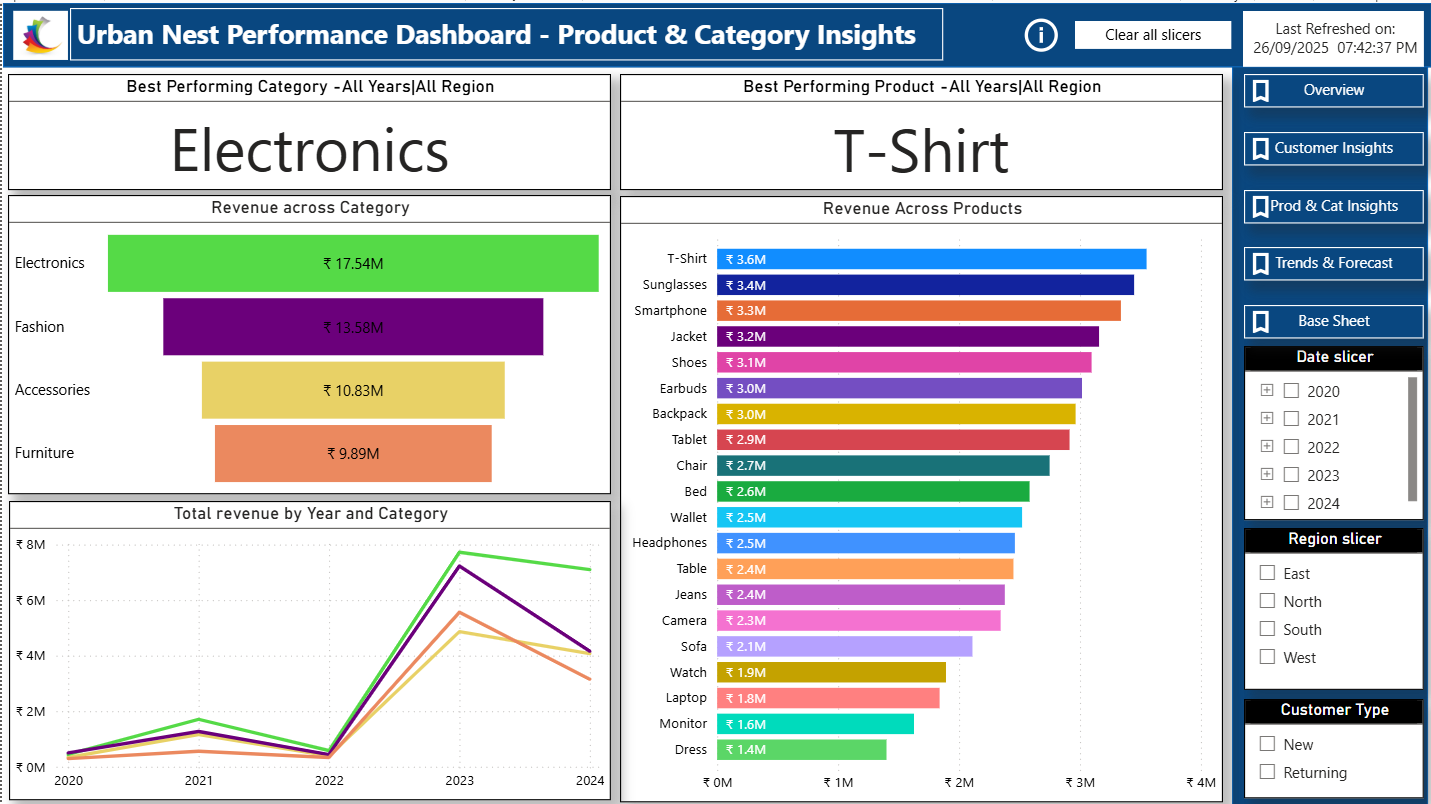

The dashboard page shown, as its layout file describes it:
{"tool":"powerbi","page":{"name":"Product & category Insights","canvas":[1280,720],"ordinal":2},"visuals":[{"type":"shape","box":[1100.9,0,175.6,720],"z":0,"group":"g1"},{"type":"group","id":"g1","title":"page1 layout","box":[0.5,0,1279.5,720],"z":1000},{"type":"slicer","title":"Date slicer","fields":{"Values":["Calendar table.Date Hierarchy.Year","Calendar table.Date Hierarchy.Quarter","Calendar table.Date Hierarchy.Month"]},"box":[1111.6,307,161,156],"z":1000,"group":"g1"},{"type":"card","fields":{"Values":["Min(Products.Category)"]},"box":[5.6,64,540,104],"z":2000},{"type":"slicer","title":"Region slicer","fields":{"Values":["Regions.RegionName"]},"box":[1111.6,470.5,161,145],"z":2000,"group":"g1"},{"type":"shape","box":[0.5,0,1279.5,57.6],"z":3000,"group":"g1"},{"type":"card","fields":{"Values":["Min(Products.ProductName)"]},"box":[553,64,539.8,104.4],"z":3000},{"type":"funnel","title":"Revenue across Category","fields":{"Category":["Products.Category"],"Y":["Measure table.Total revenue"]},"box":[5.4,171.9,540,267.8],"z":4000},{"type":"slicer","title":"Customer Type","fields":{"Values":["Customers.CustomerType"]},"box":[1111.6,623,161,89],"z":4000,"group":"g1"},{"type":"actionButton","title":"Overview","box":[1111.5,63.8,161.4,30.1],"z":5000,"group":"g1"},{"type":"barChart","title":"Revenue Across Products","fields":{"Category":["Products.ProductName"],"Y":["Measure table.Total revenue"],"Series":["Products.ProductName"]},"box":[553.2,172.5,540.2,543.5],"z":5000},{"type":"actionButton","title":"Overview","box":[1111.5,115.5,161,30.1],"z":6000,"group":"g1"},{"type":"lineChart","fields":{"Category":["Calendar table.Year"],"Series":["Products.Category"],"Y":["Measure table.Total Profit"]},"box":[6.5,445.8,539.1,267.9],"z":6000},{"type":"actionButton","title":"Overview","box":[1111.5,167.2,161.4,30],"z":7000,"group":"g1"},{"type":"actionButton","box":[910.1,8.7,42.6,39.7],"z":8000},{"type":"actionButton","title":"Overview","box":[1111.5,218.8,161.4,30.1],"z":8000,"group":"g1"},{"type":"actionButton","title":"Overview","box":[1111.5,270.4,161.4,30.1],"z":9000,"group":"g1"},{"type":"image","box":[7.6,0,53.2,57.6],"z":10000,"group":"g1"},{"type":"card","fields":{"Values":["Measure table.Last refresh"]},"box":[1110.7,7.5,161.8,49.8],"z":11000,"group":"g1"},{"type":"textbox","box":[60.1,4.5,781.8,46.6],"z":12000,"group":"g1"},{"type":"actionButton","box":[960.3,16,140.1,25.4],"z":13000,"group":"g1"}]}

Visuals, with their boxes on the page's 1280x720 design canvas (x1, y1, x2, y2). These are canvas units, not pixel positions in the 1431x804 screenshot, which may show the page scaled, cropped or inside an application window:
shape: [1101,0,1276,720]
"page1 layout" group: [0,0,1280,720]
"Date slicer" slicer: [1112,307,1273,463]
card - Min(Products.Category): [6,64,546,168]
"Region slicer" slicer: [1112,470,1273,616]
shape: [0,0,1280,58]
card - Min(Products.ProductName): [553,64,1093,168]
"Revenue across Category" funnel: [5,172,545,440]
"Customer Type" slicer: [1112,623,1273,712]
"Overview" actionButton: [1112,64,1273,94]
"Revenue Across Products" barChart: [553,172,1093,716]
"Overview" actionButton: [1112,116,1272,146]
lineChart - Calendar table.Year x Products.Category: [6,446,546,714]
"Overview" actionButton: [1112,167,1273,197]
actionButton: [910,9,953,48]
"Overview" actionButton: [1112,219,1273,249]
"Overview" actionButton: [1112,270,1273,300]
image: [8,0,61,58]
card - Measure table.Last refresh: [1111,8,1272,57]
textbox: [60,4,842,51]
actionButton: [960,16,1100,41]
